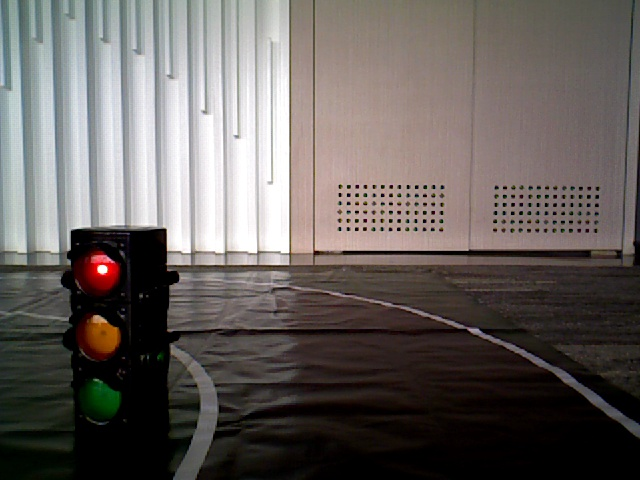red: (73, 233, 135, 416)
